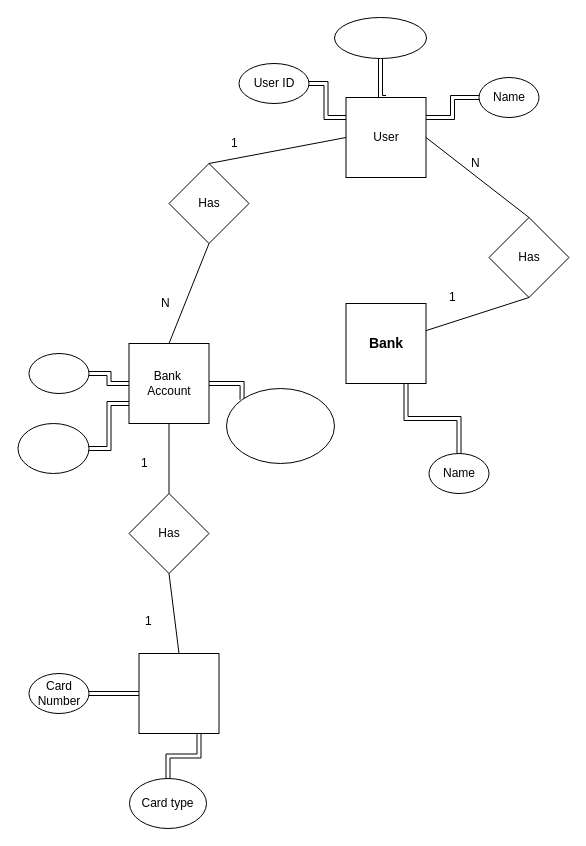
The diagram is 586 pixels wide and 846 high, and some of its shapes have lost their labels. The centre of each missing label's shape, as x and y in pixels:
"Account Number" belongs at (58,373).
"Account type" belongs at (53,448).
"Credit Card" belongs at (178,693).
"Other attributes (eg. credit amount)" belongs at (280,426).
"Password" belongs at (380,37).
